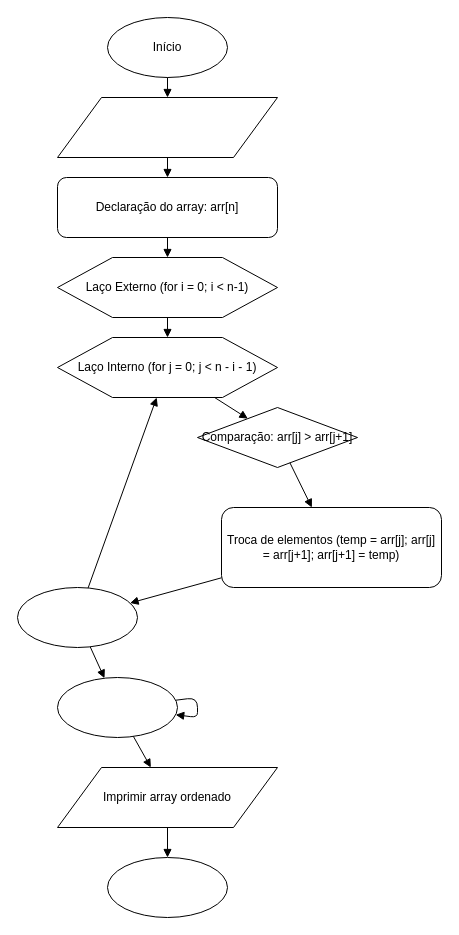
Some shapes in this 459 by 935 pixel diagram are drawn without their labels. The shapes that lost their labels are listed below. From the top down, each one's box as (x1, y1, x2, y2) in pixels, then its label:
(56, 96, 278, 158): Entrada de n (quantidade de elementos)
(16, 586, 138, 648): Fim do Laço Interno
(56, 676, 178, 738): Fim do Laço Externo
(106, 856, 228, 918): Fim do programa
